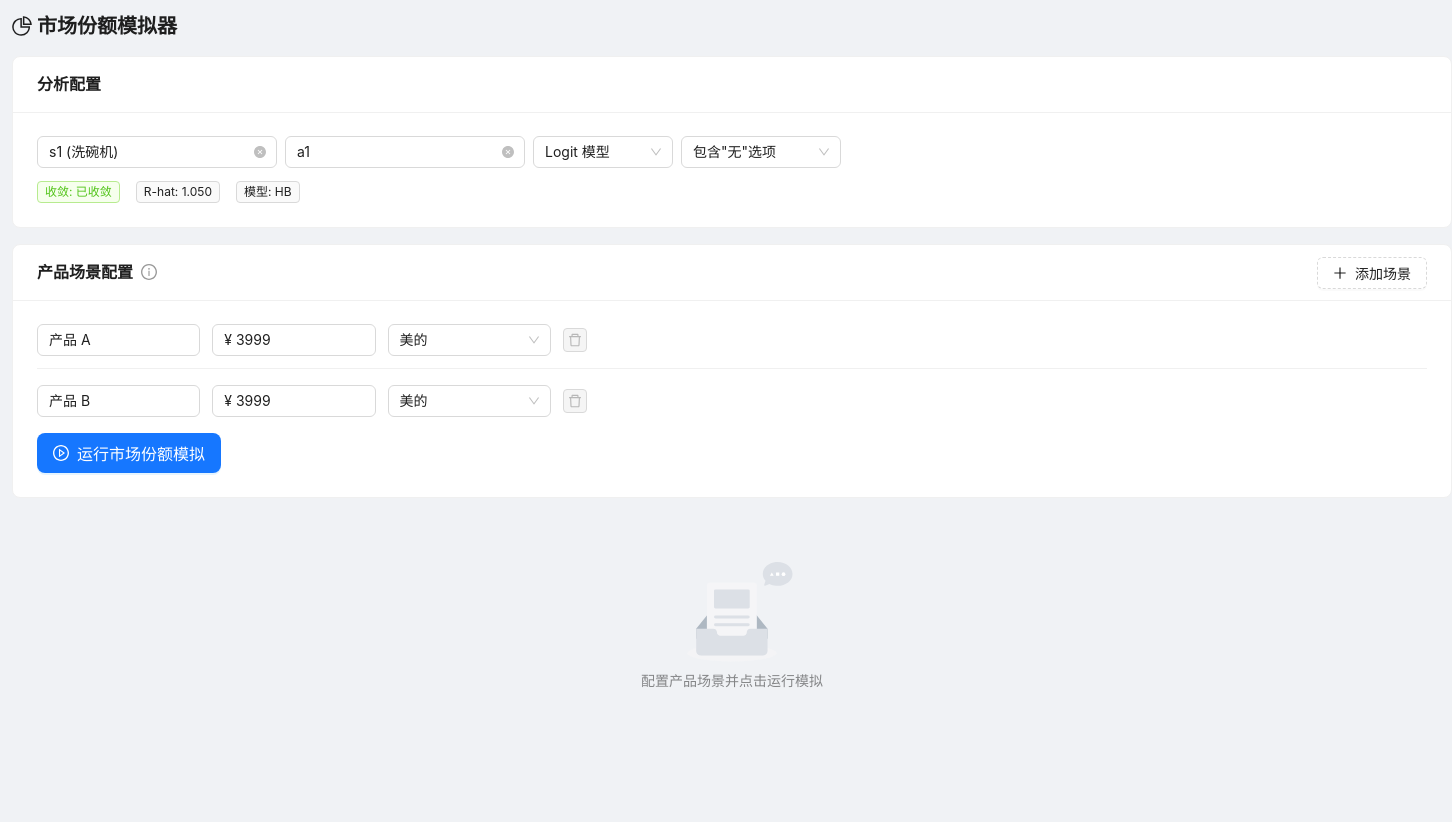
Test: MarketSimulator simulation › handles simulation error
Check: the heading "市场份额模拟器" is shown, box [12,14,177,38]
Click the button "运行市场份额模拟" at (129, 453), box [37,433,221,473]
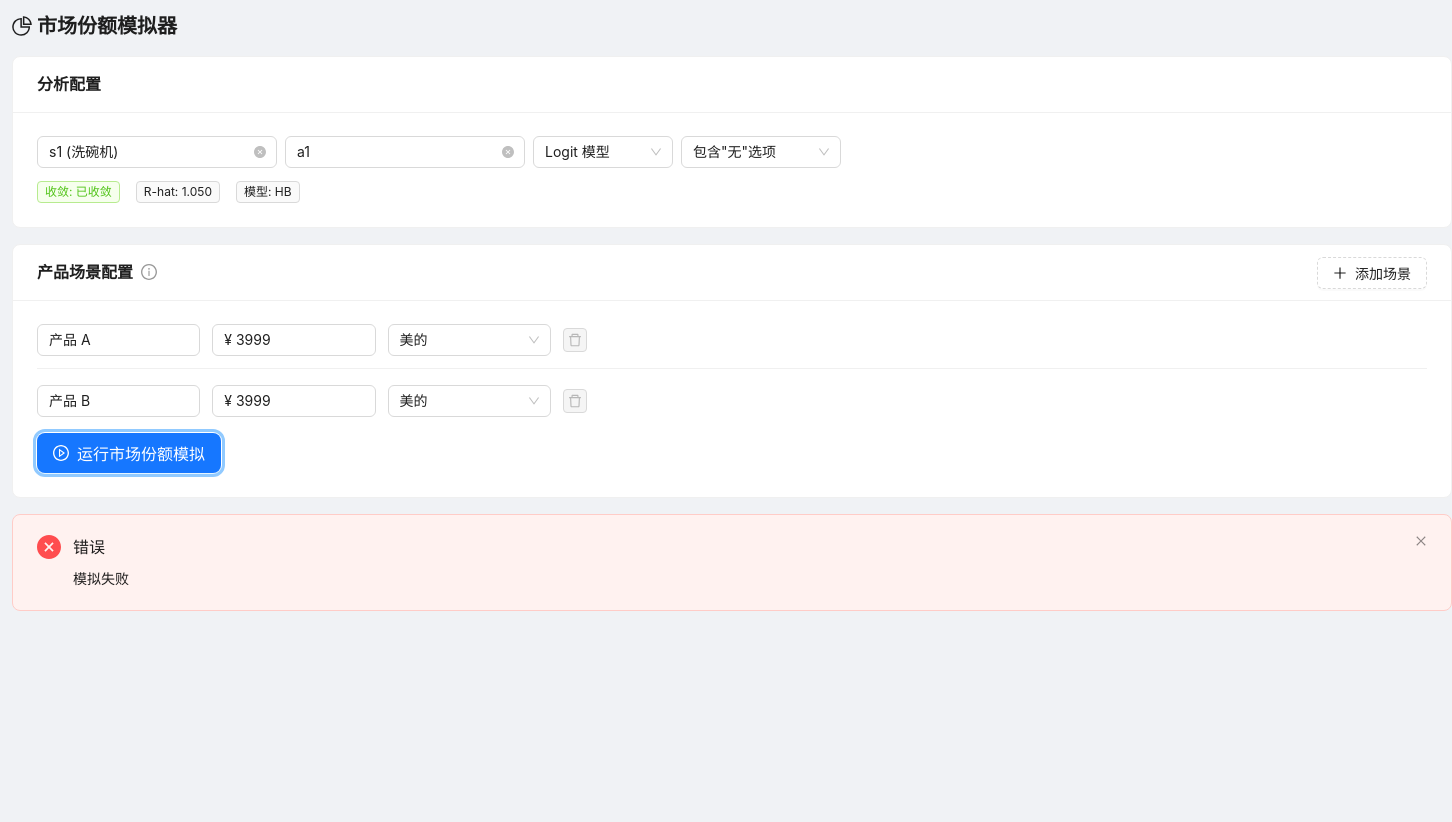
Check: the text "模拟失败" is shown, box [73,570,129,587]
